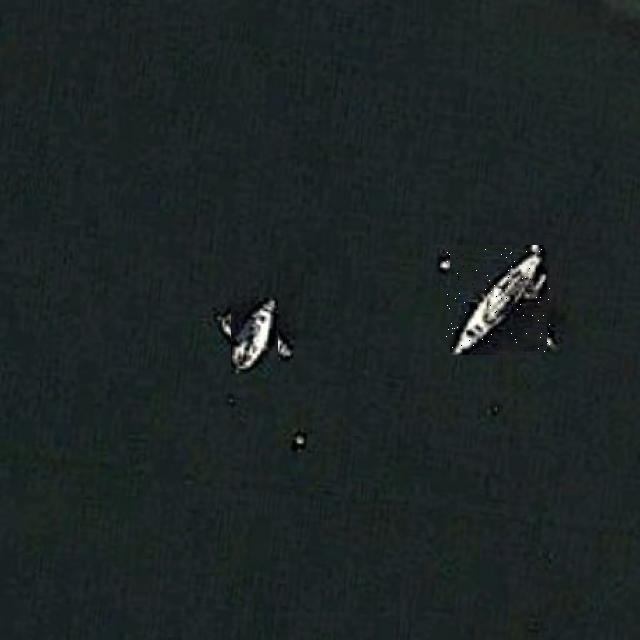boat: (446, 248, 550, 352), (224, 304, 286, 367)
